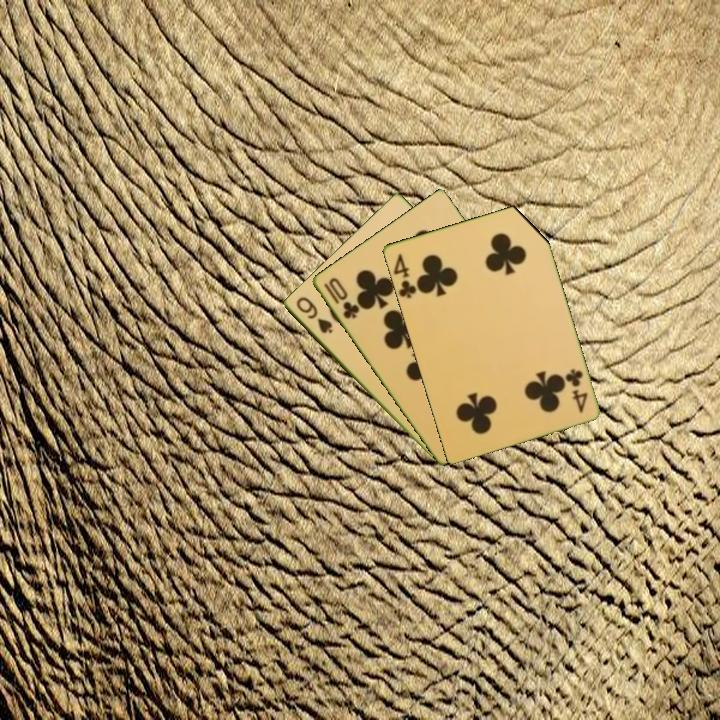10c: (320, 274, 362, 322)
4c: (390, 250, 419, 301), (562, 365, 590, 415)
9s: (292, 293, 335, 337)
